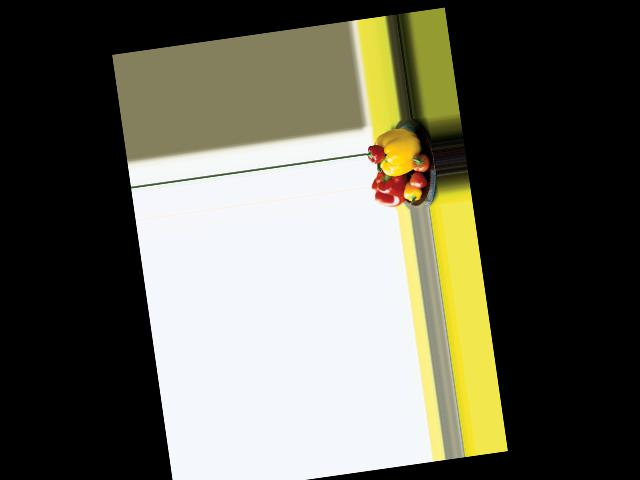bell_pepper: (401, 182, 422, 204)
